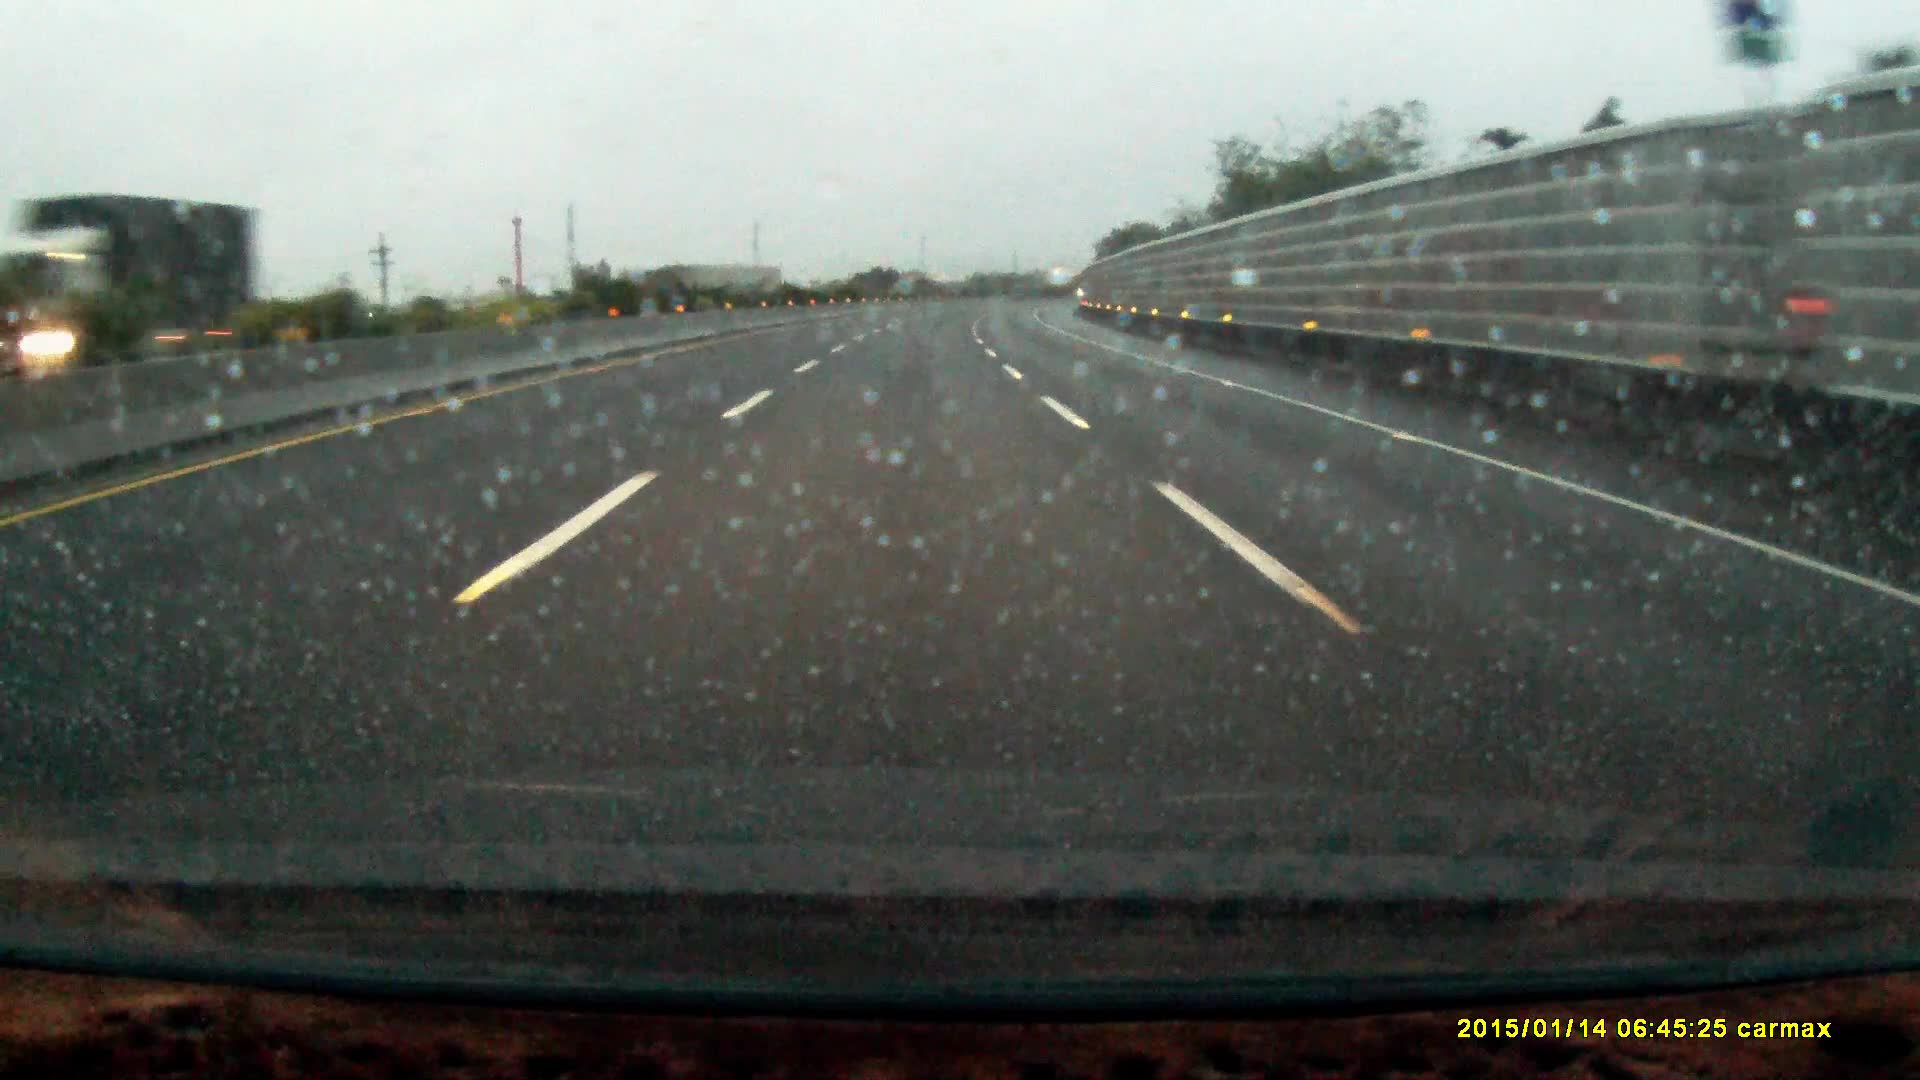vehicle: (11, 191, 247, 372)
